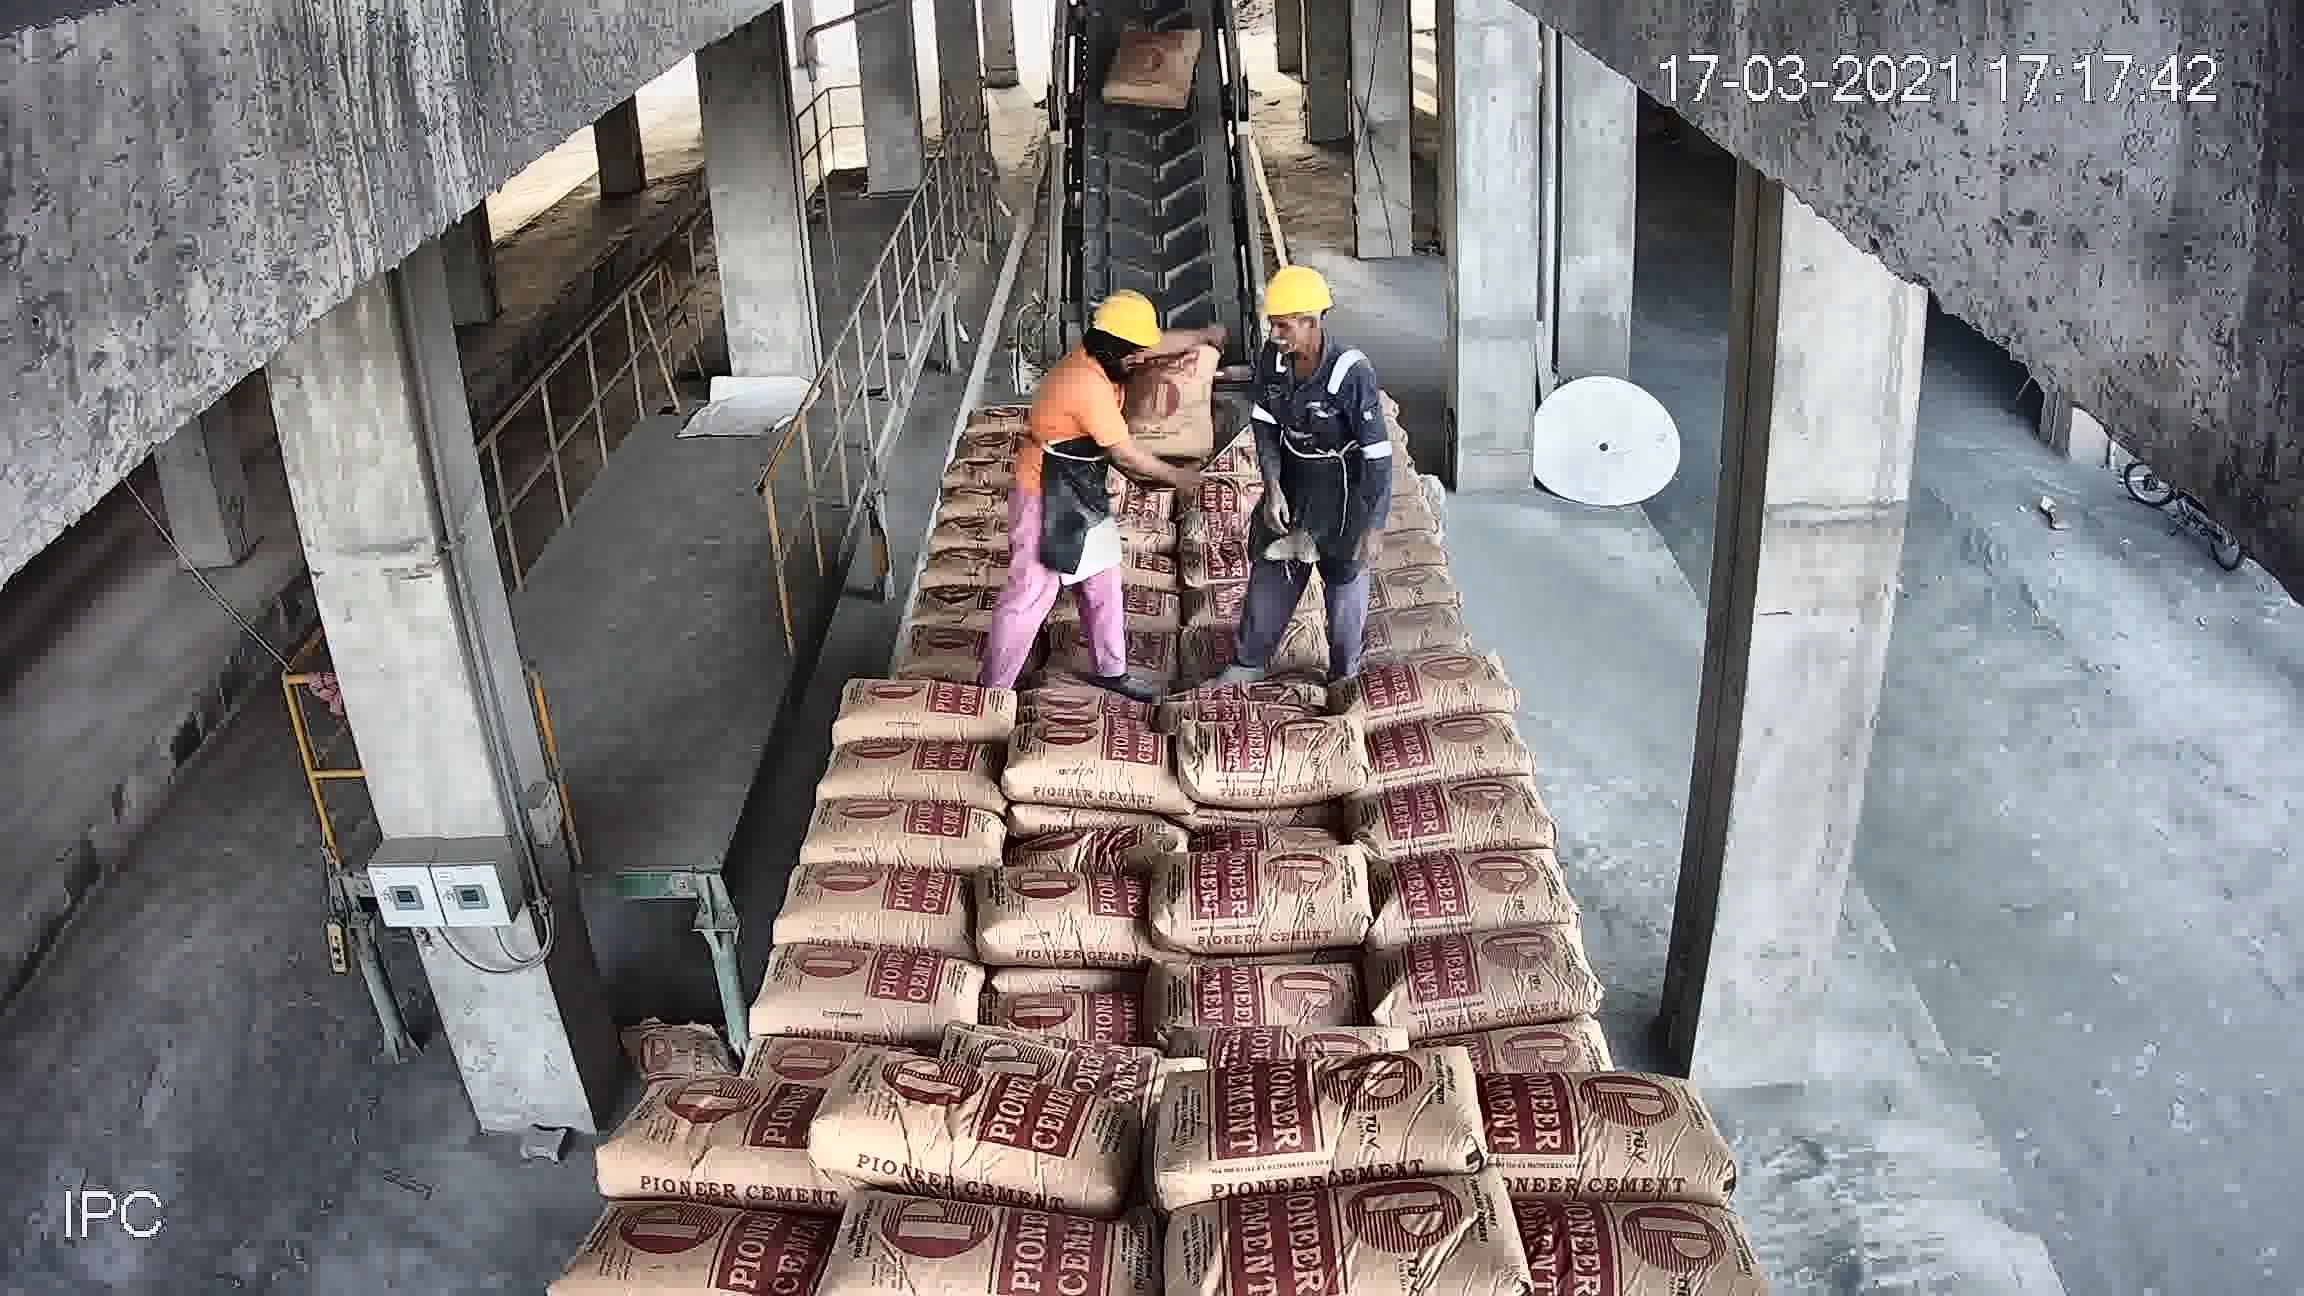bag: (1108, 21, 1199, 103)
bag_h: (801, 1059, 1144, 1215), (1157, 1054, 1467, 1211), (1169, 1176, 1492, 1291), (831, 1193, 1177, 1294), (1468, 1078, 1730, 1207), (1355, 916, 1605, 1041), (1502, 1180, 1749, 1287), (608, 1084, 813, 1209), (562, 1195, 817, 1290), (745, 946, 995, 1032), (1165, 850, 1375, 945), (764, 864, 981, 956), (1359, 850, 1570, 938), (1152, 964, 1364, 1048), (976, 869, 1154, 967), (1355, 772, 1552, 859), (995, 717, 1173, 809), (1180, 715, 1356, 805), (801, 802, 1000, 878), (817, 733, 1006, 805), (1405, 1021, 1612, 1087), (836, 676, 1027, 745), (1369, 706, 1529, 786), (980, 978, 1150, 1048), (1347, 654, 1516, 722), (1041, 617, 1174, 696), (1355, 552, 1465, 622), (905, 584, 1006, 631), (923, 470, 1010, 524), (1355, 619, 1487, 654), (897, 623, 994, 668), (918, 532, 1006, 578), (1173, 536, 1244, 593), (1179, 582, 1234, 638)
bag_v: (1128, 353, 1214, 460)
belt: (1035, 14, 1272, 418)
